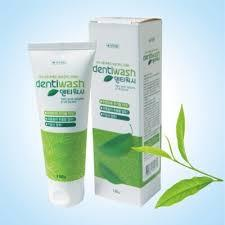toothpaste: (26, 38, 99, 212)
